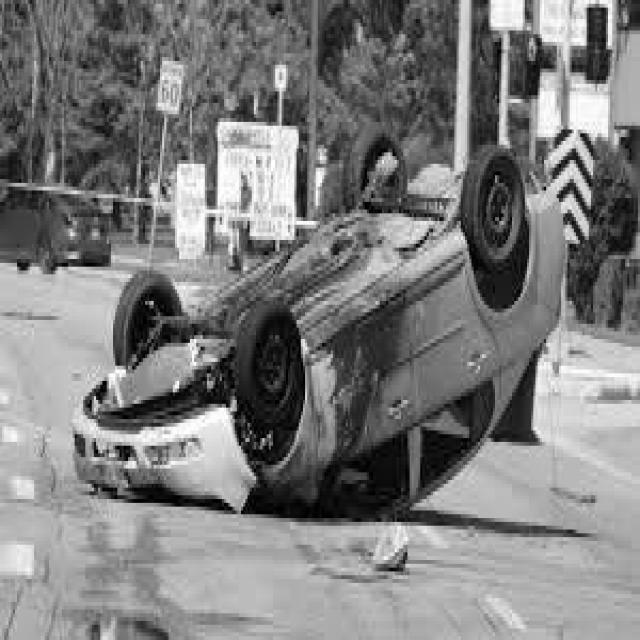accident: (65, 130, 573, 507)
vehicle: (0, 170, 116, 278)
